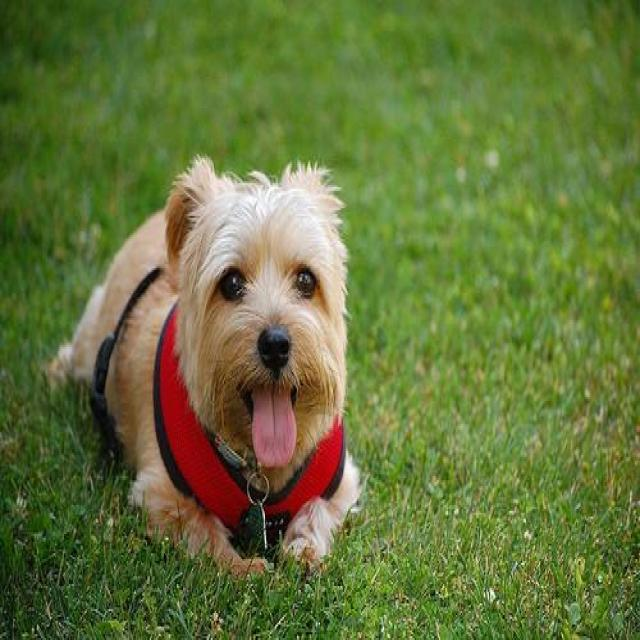adult_dog: (39, 156, 366, 587)
